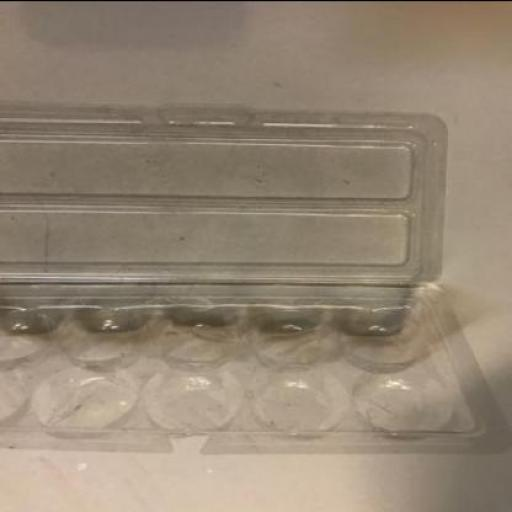plastic: (0, 106, 505, 453), (0, 110, 447, 288)
